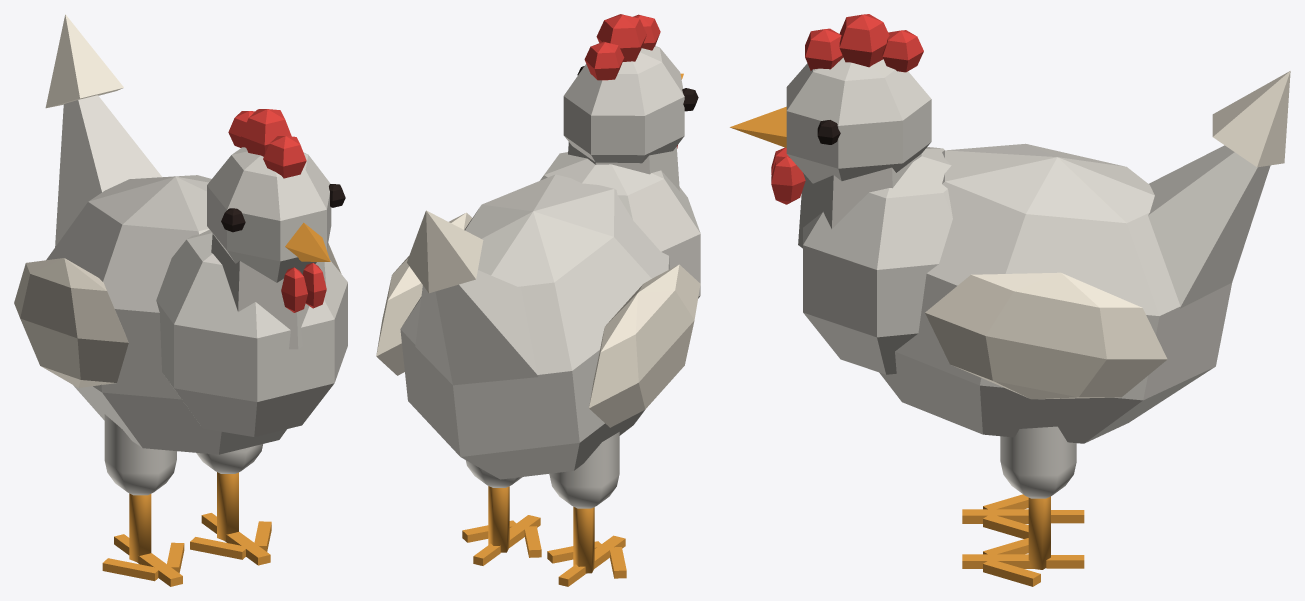
Rendered from hen.glb.
3 renders of one model, left to right at view 1: azimuth 30°, elevation 25°; view 2: azimuth 150°, elevation 25°; view 3: azimuth 270°, elevation 25°, orthographic. The views are drawn at different scales.
Visible parts, largest first — view 1: BodyMesh, HeadMesh, LegLMesh, LegRMesh; view 2: BodyMesh, HeadMesh, LegLMesh, LegRMesh; view 3: BodyMesh, HeadMesh, LegRMesh, LegLMesh.
Part boxes in pixels (bbox=[...]): BodyMesh: bbox=[14, 14, 347, 454]; HeadMesh: bbox=[207, 109, 345, 349]; LegLMesh: bbox=[102, 414, 184, 586]; LegRMesh: bbox=[190, 444, 271, 565]; BodyMesh: bbox=[376, 152, 700, 479]; HeadMesh: bbox=[563, 14, 698, 190]; LegLMesh: bbox=[547, 432, 626, 586]; LegRMesh: bbox=[462, 460, 541, 565]; BodyMesh: bbox=[803, 71, 1290, 443]; HeadMesh: bbox=[730, 14, 931, 248]; LegRMesh: bbox=[962, 426, 1084, 586]; LegLMesh: bbox=[962, 494, 1084, 538].
Bounding box in the file's own units: 0.4221 × 0.764 × 0.735.
